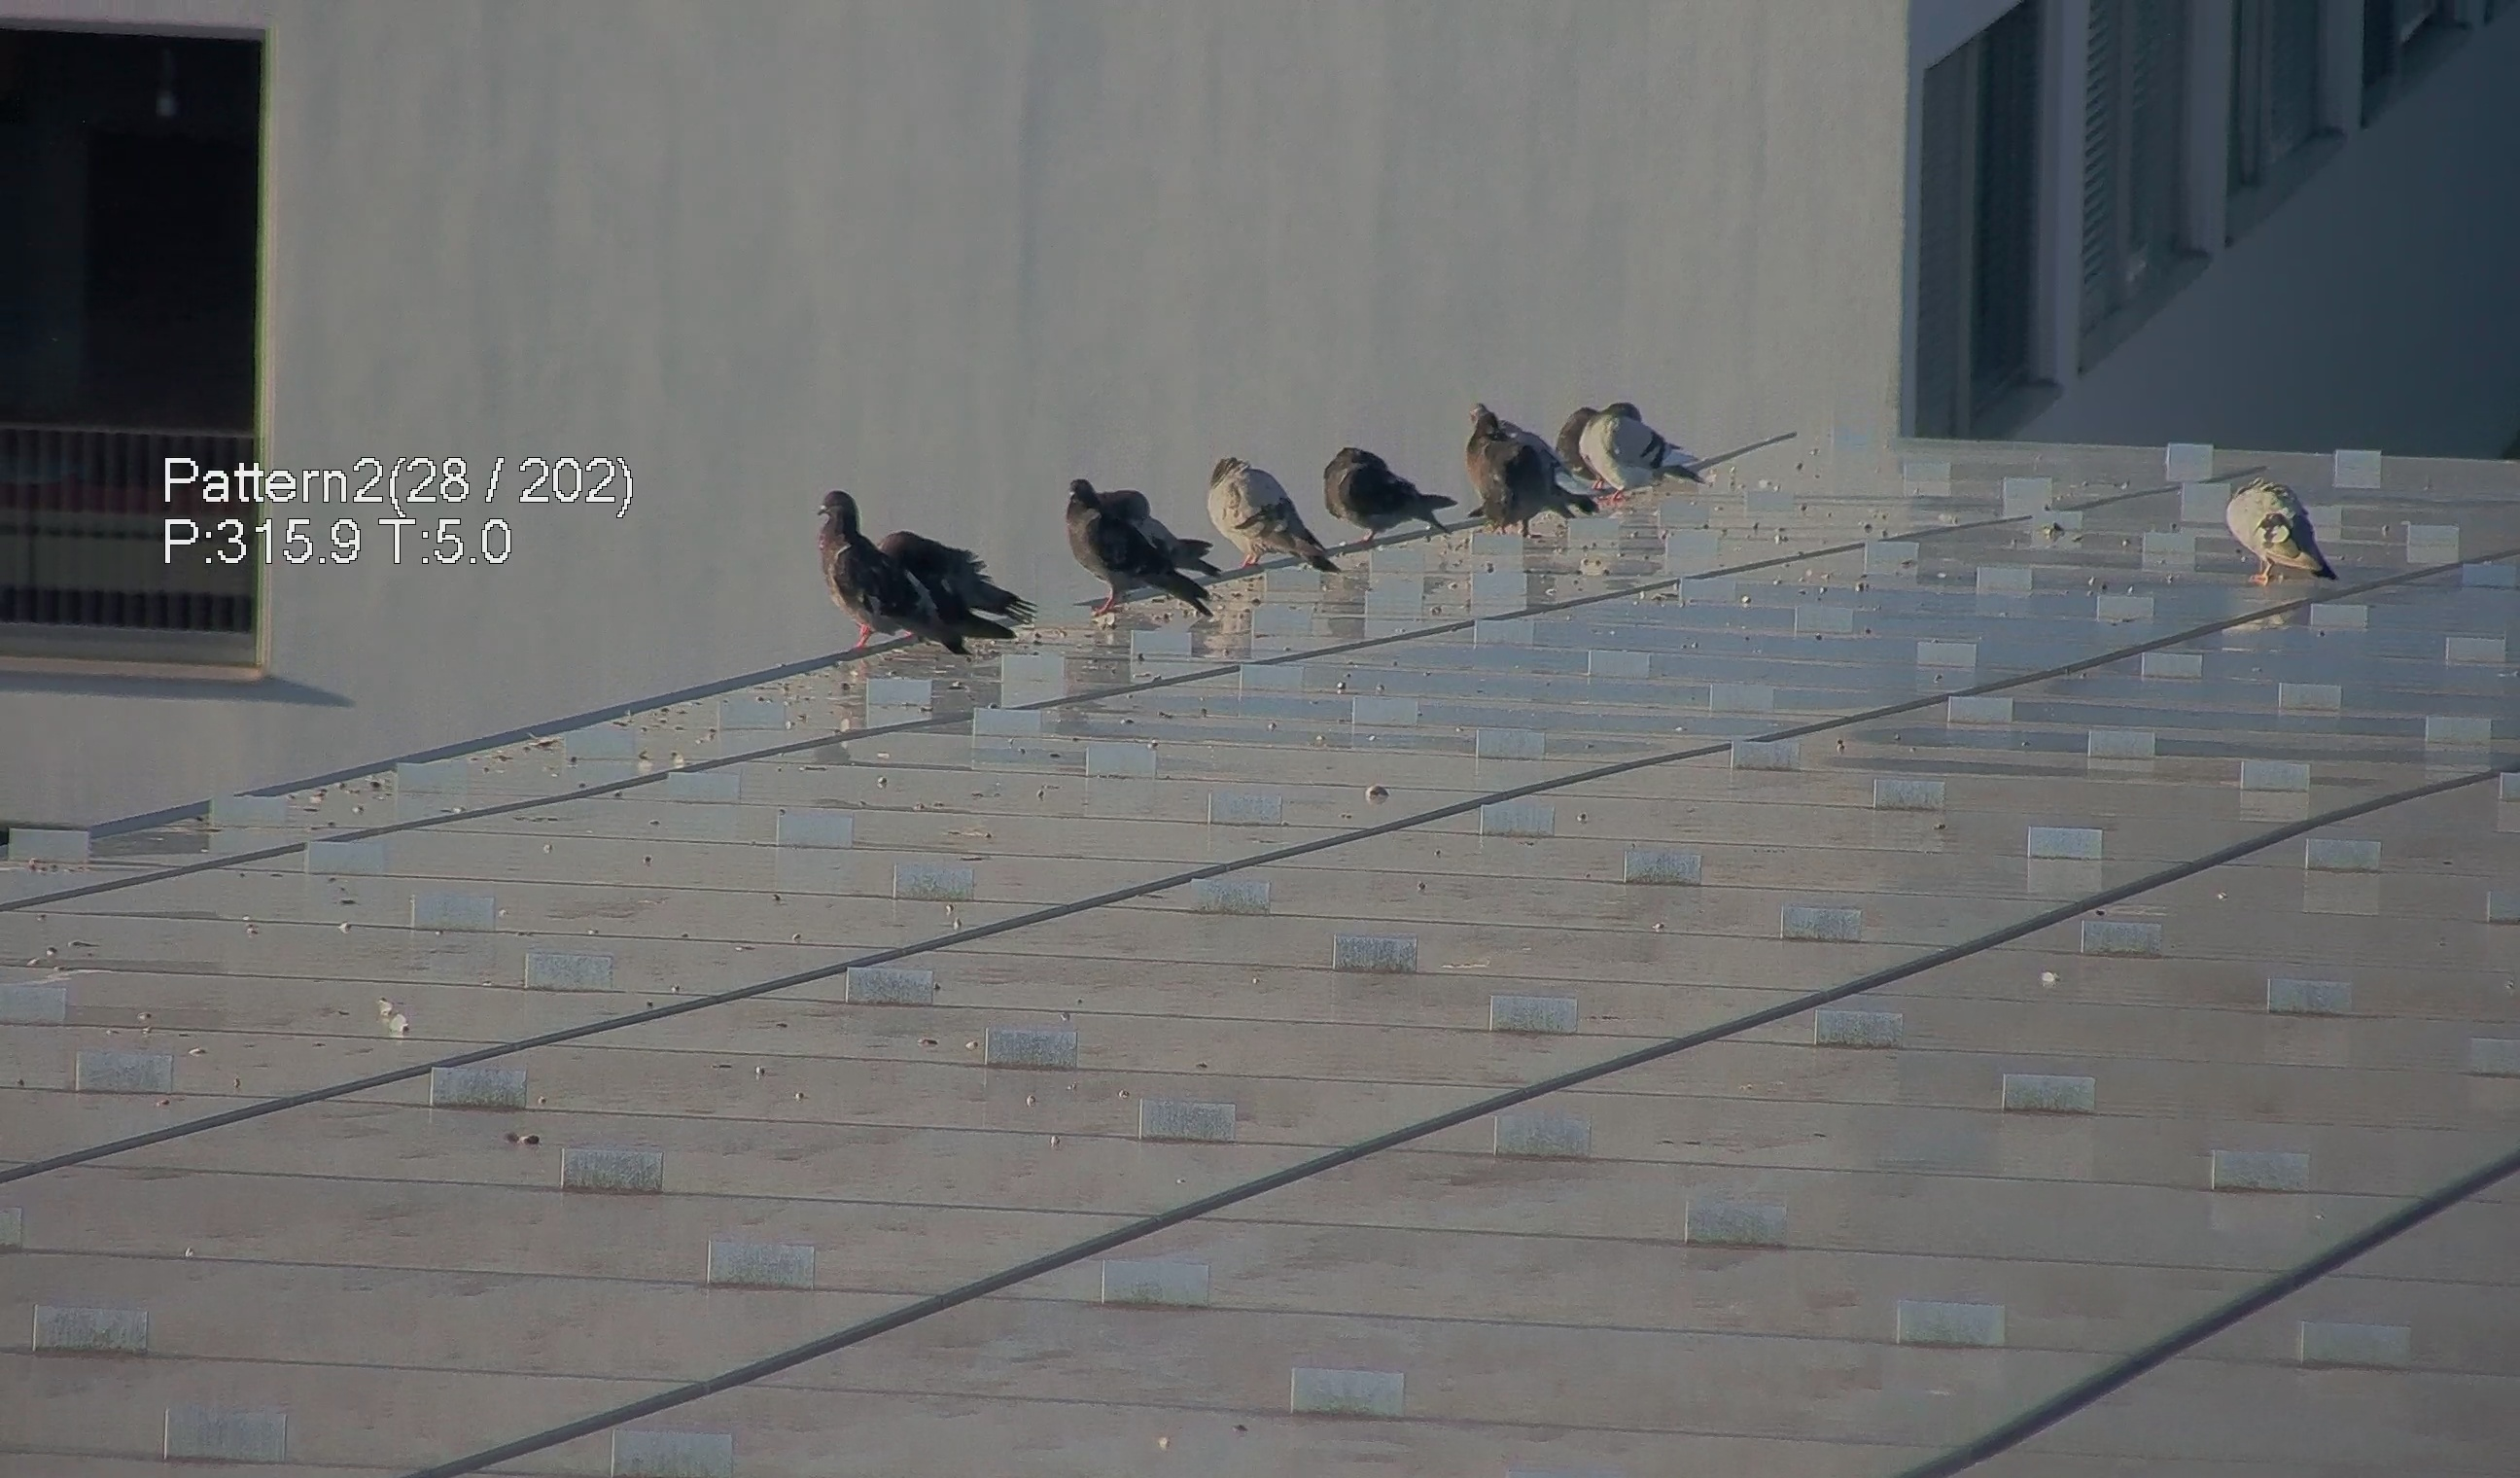Pigeon: (788, 486, 1013, 669), (1050, 465, 1222, 614), (1194, 440, 1349, 575), (1454, 382, 1597, 523), (1556, 384, 1718, 505), (881, 524, 1046, 633), (2230, 465, 2351, 593), (1322, 433, 1458, 544)
